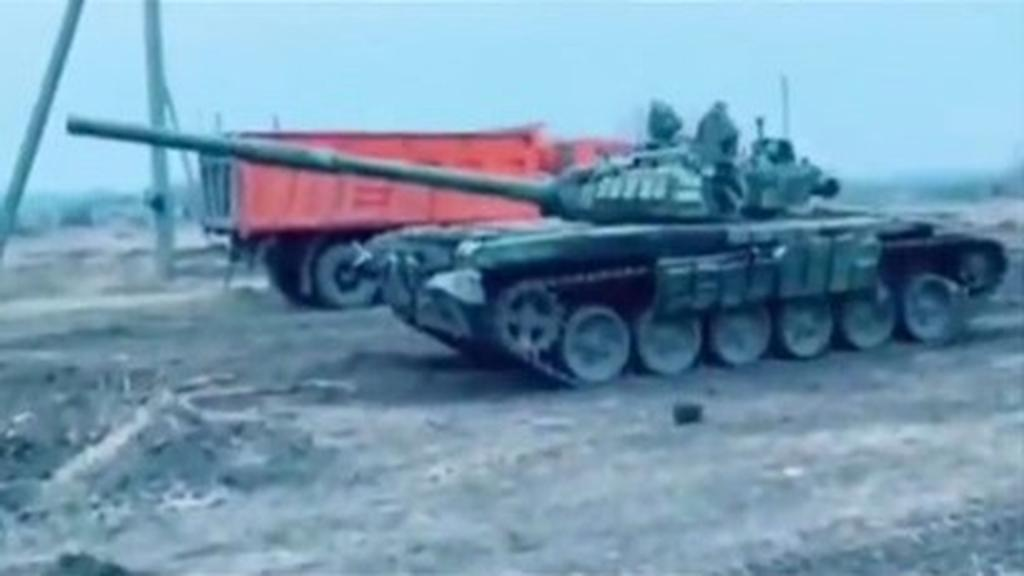TANK: (66, 106, 992, 392)
TRUCK: (198, 124, 632, 308)
